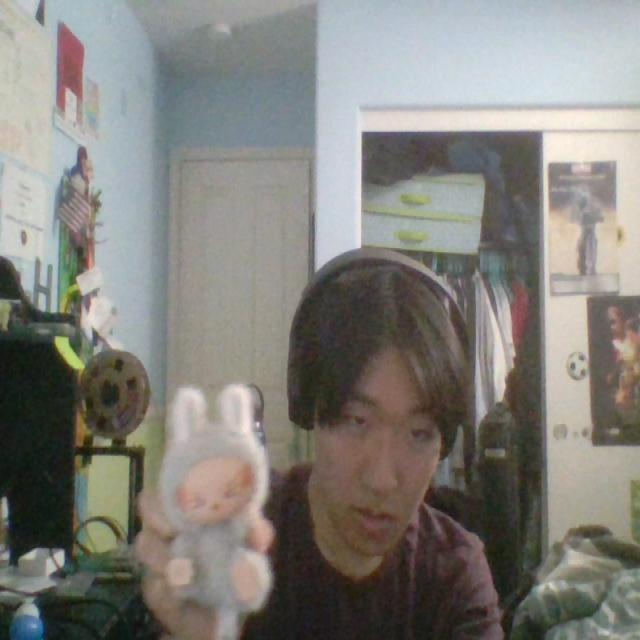labubu: (160, 383, 273, 639)
